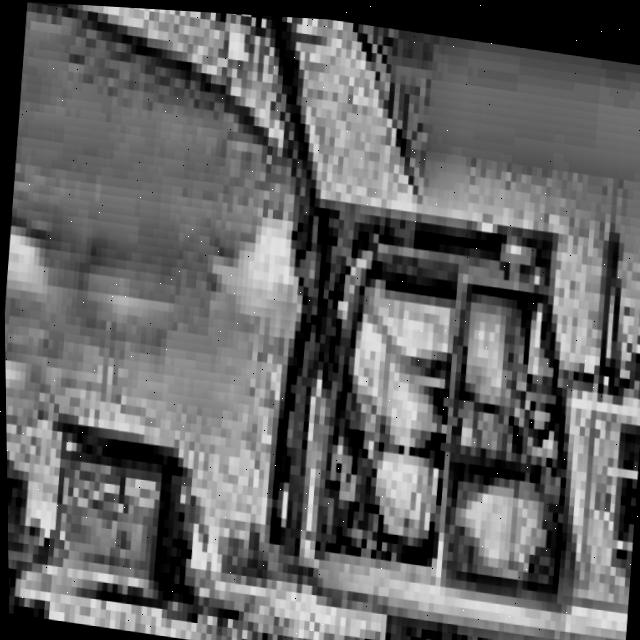excavator: (147, 138, 640, 640)
